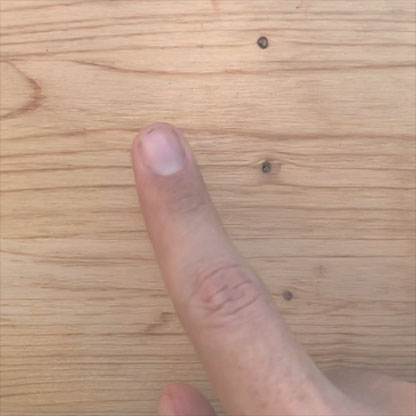fingertip: (127, 113, 210, 187)
